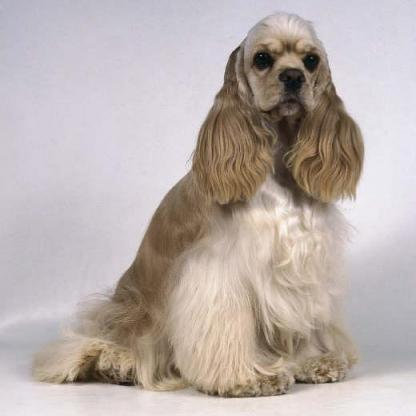cocker_spaniel: (27, 7, 366, 400)
